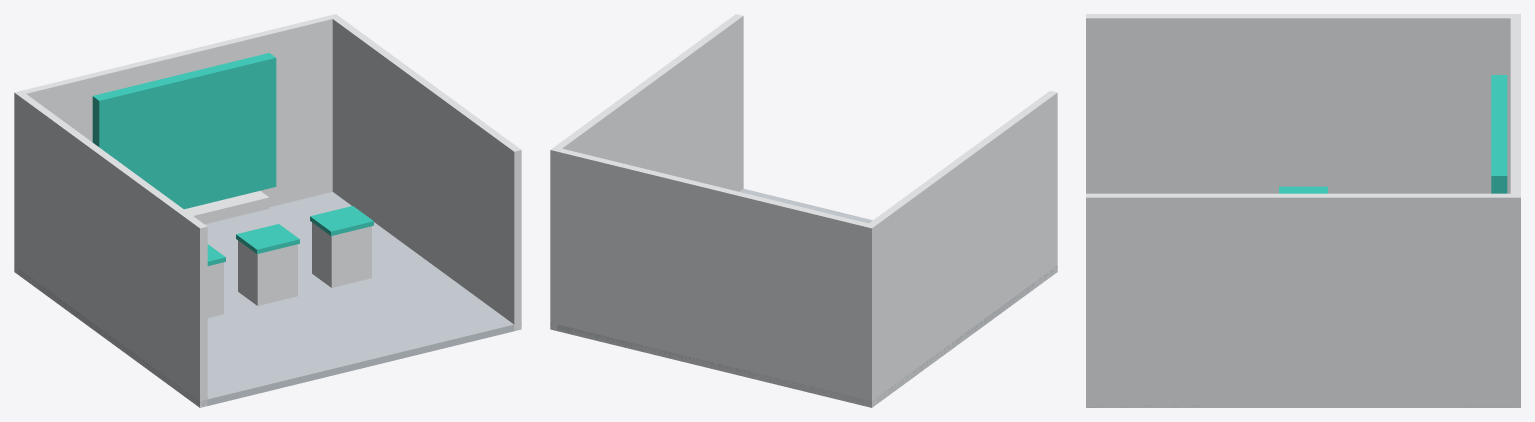
3 views of the same model, side by side, from view 1: azimuth 30°, elevation 25°; view 2: azimuth 150°, elevation 25°; view 3: azimuth 270°, elevation 25° (orthographic). The views are drawn at different scales.
Visible parts, largest first — view 1: Exhibition Booth Concept; view 2: Exhibition Booth Concept; view 3: Exhibition Booth Concept.
Part boxes in pixels (x1,y1,x2,y2): Exhibition Booth Concept: [14, 14, 521, 407]; Exhibition Booth Concept: [550, 14, 1057, 407]; Exhibition Booth Concept: [1086, 14, 1520, 407].
Size of the model in its own units: 6 by 3.2 by 6.
